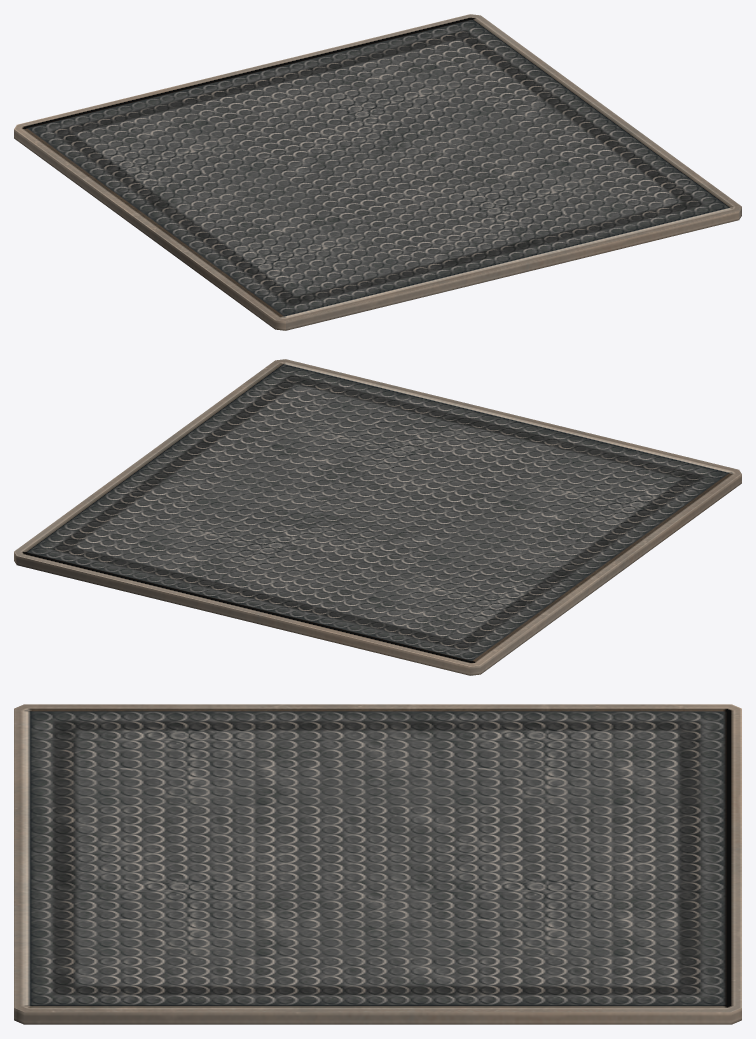
File: mprw_floor_plate.FBX
The picture shows the model from 3 angles, top to bottom: view 1: azimuth 30°, elevation 25°; view 2: azimuth 150°, elevation 25°; view 3: azimuth 270°, elevation 25°; orthographic projection. The views are drawn at different scales.
Parts seen in each view (by area): view 1: mprw_floor_plate; view 2: mprw_floor_plate; view 3: mprw_floor_plate.
Boxes of the visible parts, x1=… form: mprw_floor_plate: x1=14, y1=14, x2=741, y2=330; mprw_floor_plate: x1=14, y1=359, x2=741, y2=675; mprw_floor_plate: x1=14, y1=704, x2=741, y2=1024.
Size of the model in its own units: 341 by 6.41 by 341.
1 material, 1 textured.
